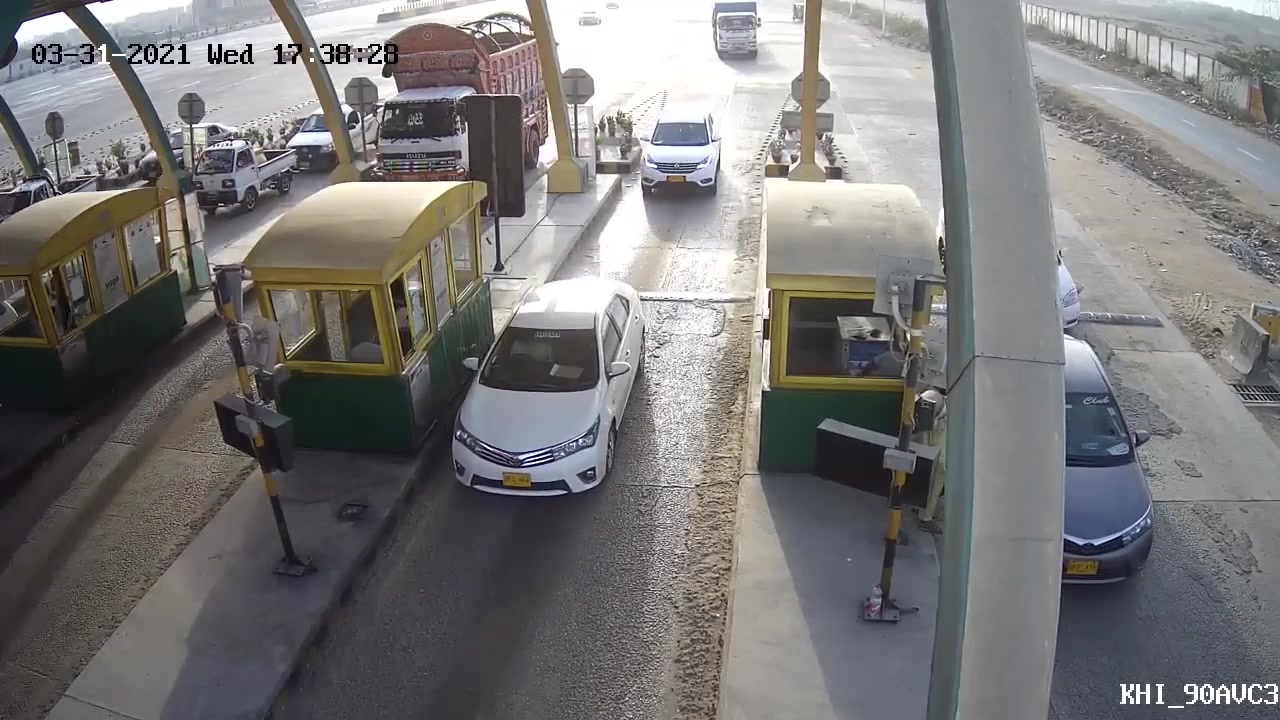F1: (433, 269, 647, 520)
